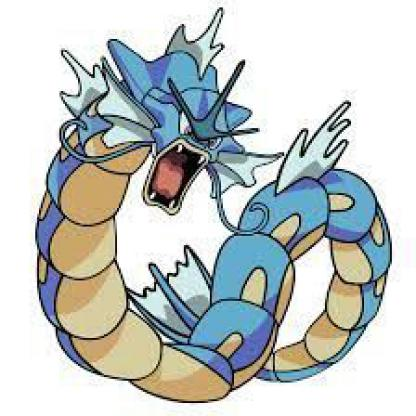Gyarados: (9, 1, 402, 415)
